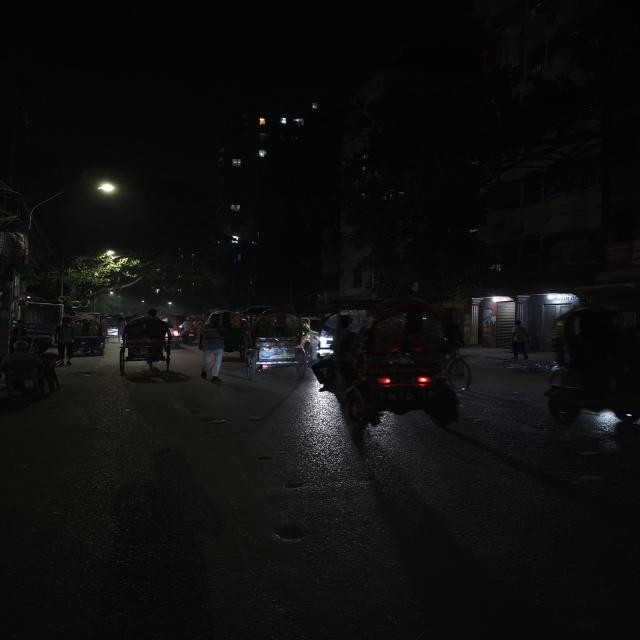pedestrian: (195, 314, 231, 384), (504, 320, 534, 372), (50, 317, 78, 366)
rickshaw: (314, 293, 480, 427), (538, 301, 640, 449), (238, 305, 315, 379), (115, 311, 173, 371), (72, 312, 110, 356), (102, 312, 127, 341), (178, 314, 202, 344)
